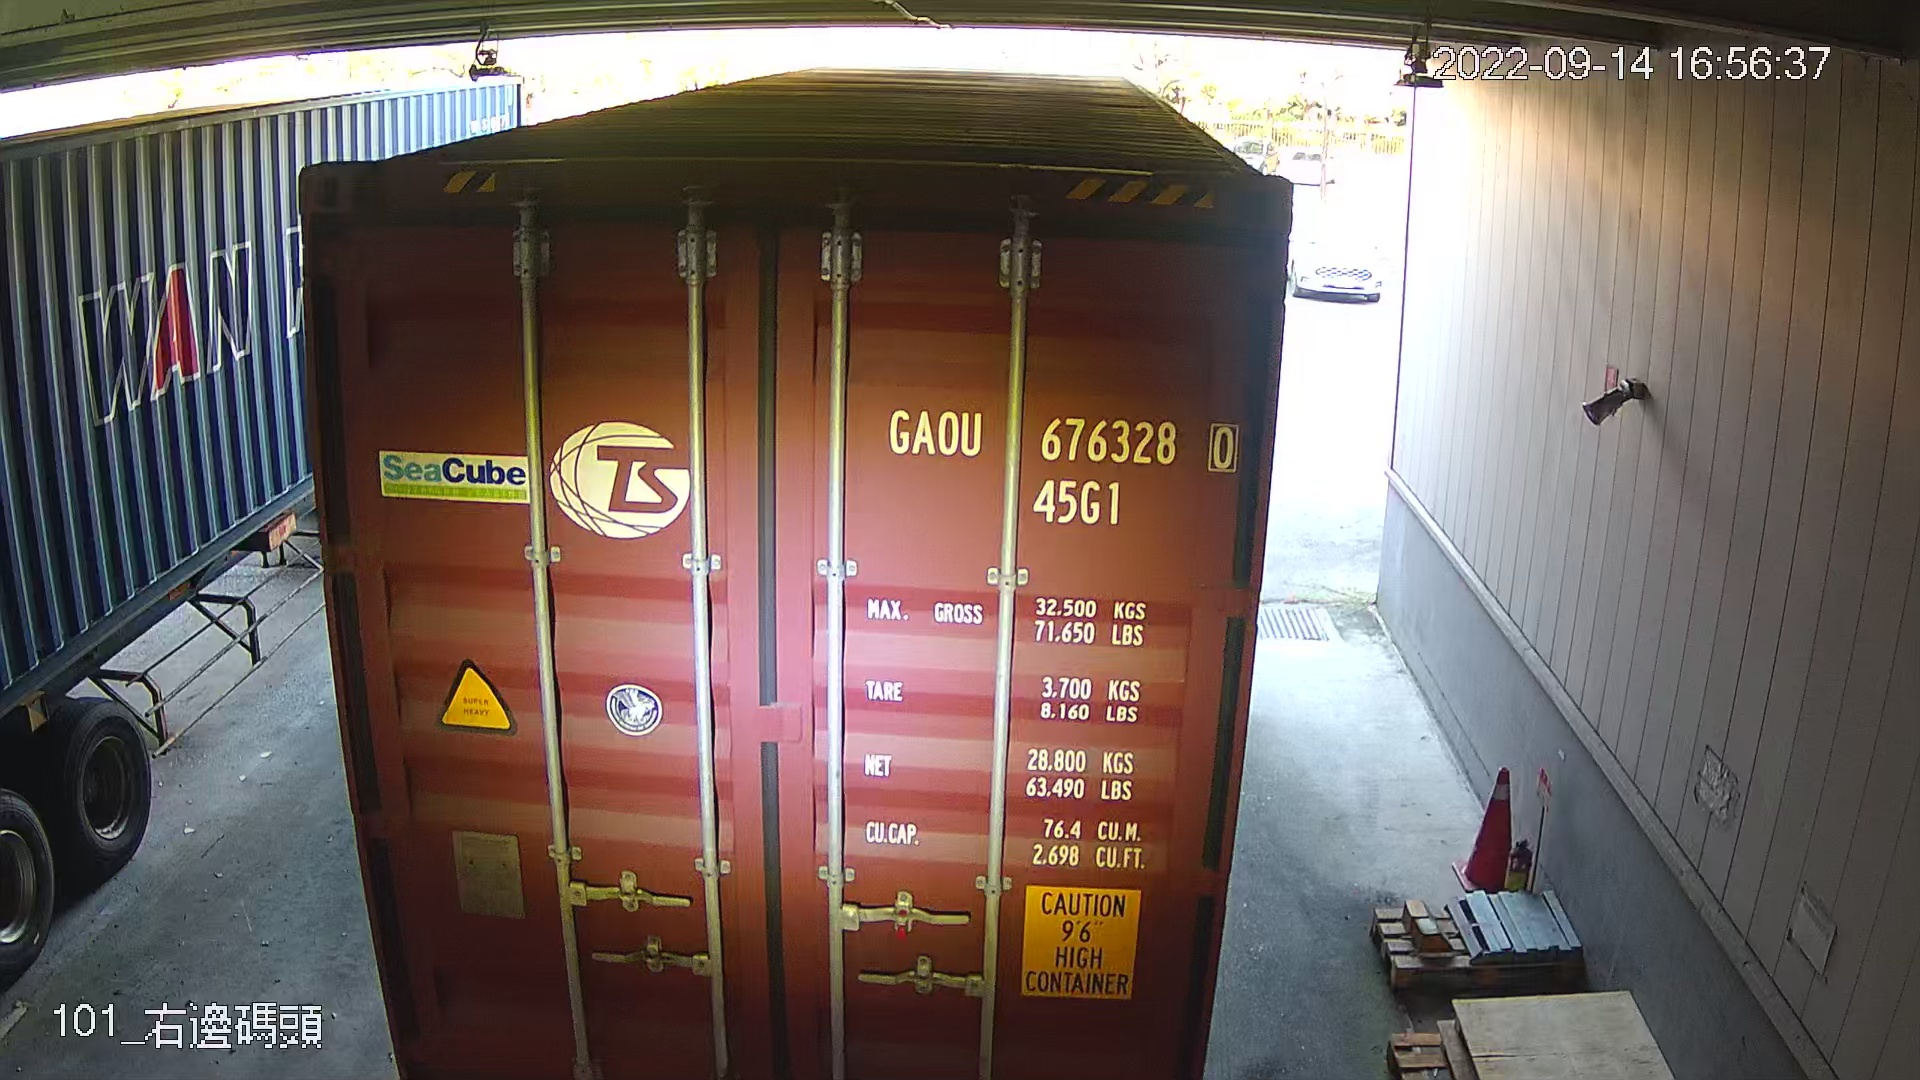container: (873, 400, 1245, 529)
